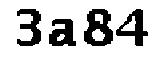3: (14, 5, 45, 51)
4: (116, 6, 159, 51)
8: (79, 3, 115, 49)
a: (48, 15, 78, 50)
